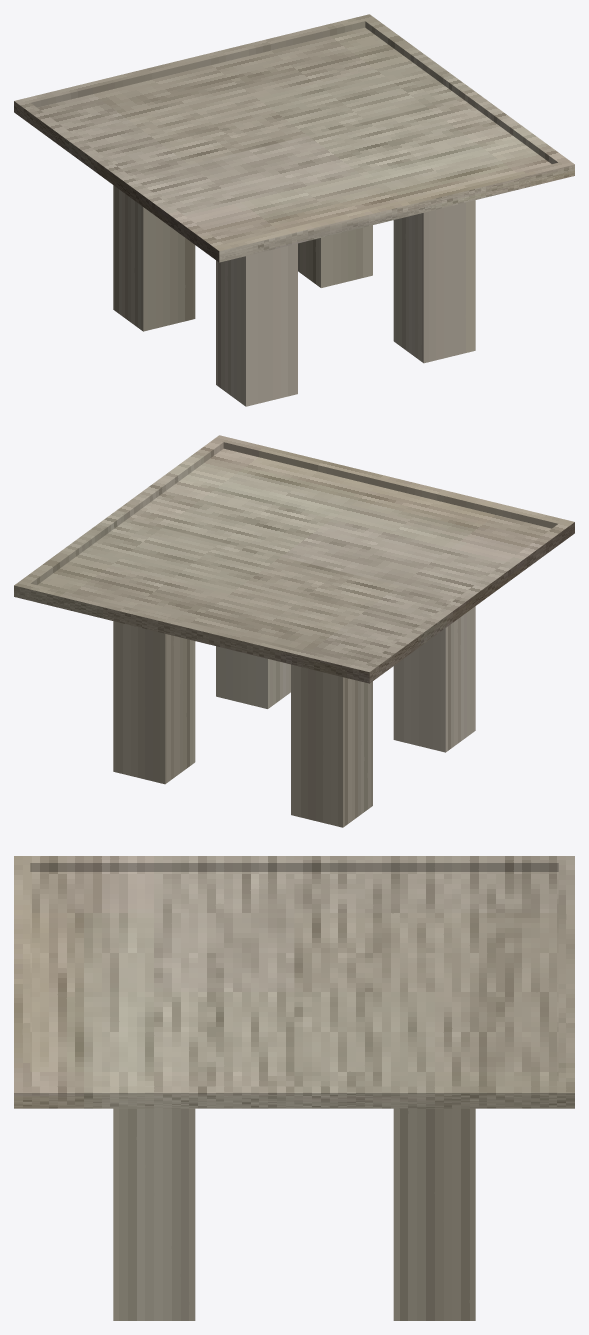
File: table.glb
3 renders of one model, top to bottom at view 1: azimuth 30°, elevation 25°; view 2: azimuth 150°, elevation 25°; view 3: azimuth 270°, elevation 25°, orthographic. The views are drawn at different scales.
Visible parts, largest first — view 1: Cube; view 2: Cube; view 3: Cube.
Part boxes in pixels (box(x1,y1,x2,y2)): Cube: box(14, 14, 574, 406); Cube: box(14, 435, 574, 827); Cube: box(14, 856, 574, 1320).
Bounding box in the file's own units: 2 × 1.06 × 2.
Materials: 1 (1 with a texture image).
